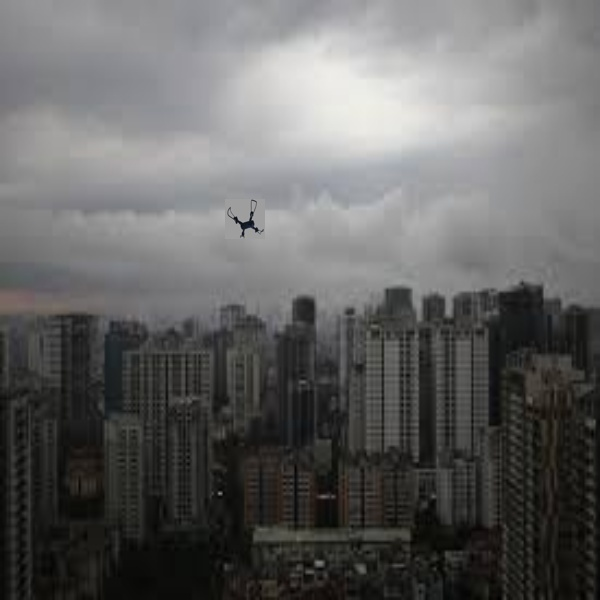drone: (222, 196, 266, 246)
